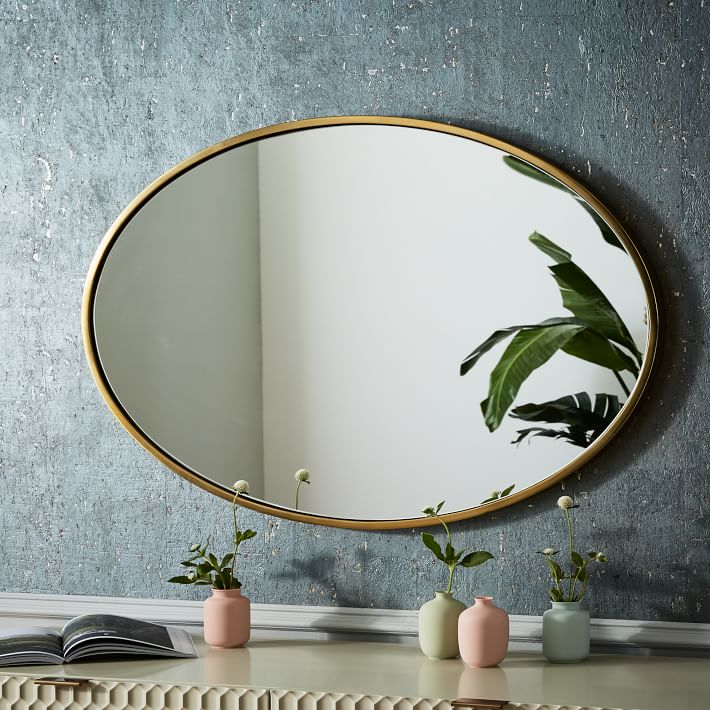Nonrec_Glass: (76, 111, 682, 531)
